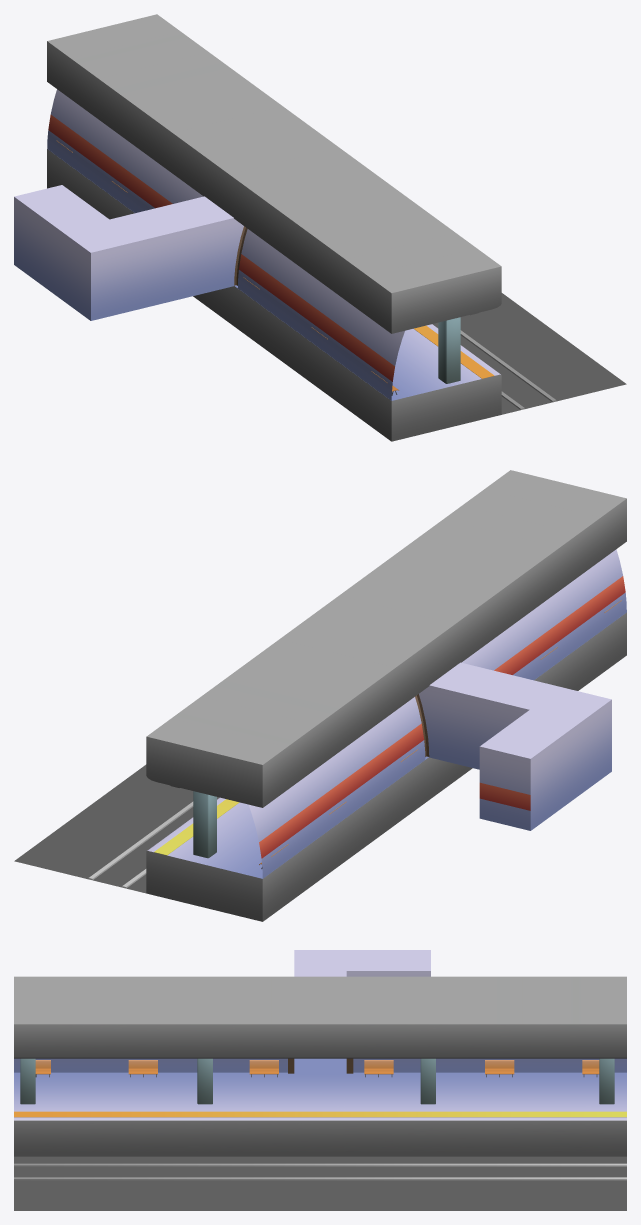
The model's file is Metro.fbx.
3 views of the same model, one above another, from view 1: azimuth 30°, elevation 25°; view 2: azimuth 150°, elevation 25°; view 3: azimuth 270°, elevation 25° (orthographic). The views are drawn at different scales.
Parts seen in each view (by area): view 1: Hood, Walls, Floor, Cloumn.003; view 2: Hood, Walls, Floor, Cloumn; view 3: Floor, Hood, Walls, Cloumn.002, Cloumn, Cloumn.001, Cloumn.003, Bank.002, Bank.001, Bank.003, Bank.004.
Boxes of the visible parts, x1,y1,x2,y2 form: Hood: (47,14,501,333); Walls: (14,89,404,400); Floor: (47,149,626,441); Cloumn.003: (438,317,460,383); Hood: (146,470,626,807); Walls: (248,549,626,878); Floor: (14,612,626,921); Cloumn: (193,791,216,858); Floor: (14,1072,626,1210); Hood: (14,976,626,1058); Walls: (14,950,626,1073); Cloumn.002: (197,1058,212,1104); Cloumn: (599,1058,614,1104); Cloumn.001: (420,1058,435,1104); Cloumn.003: (20,1058,35,1104); Bank.002: (364,1060,393,1077); Bank.001: (485,1060,514,1077); Bank.003: (249,1060,278,1077); Bank.004: (128,1060,157,1077).
Bounding box in the file's own units: 3850 × 1443 × 6067.
